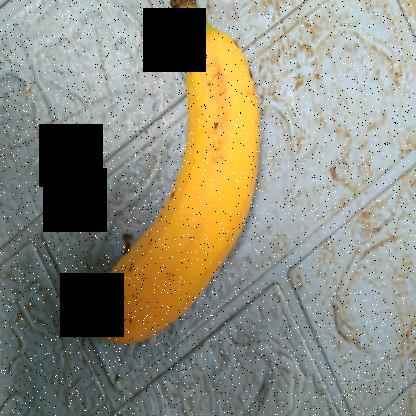freshripe: (75, 19, 275, 358)
